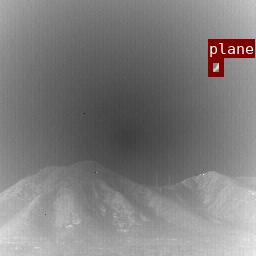plane: (208, 58, 223, 76)
